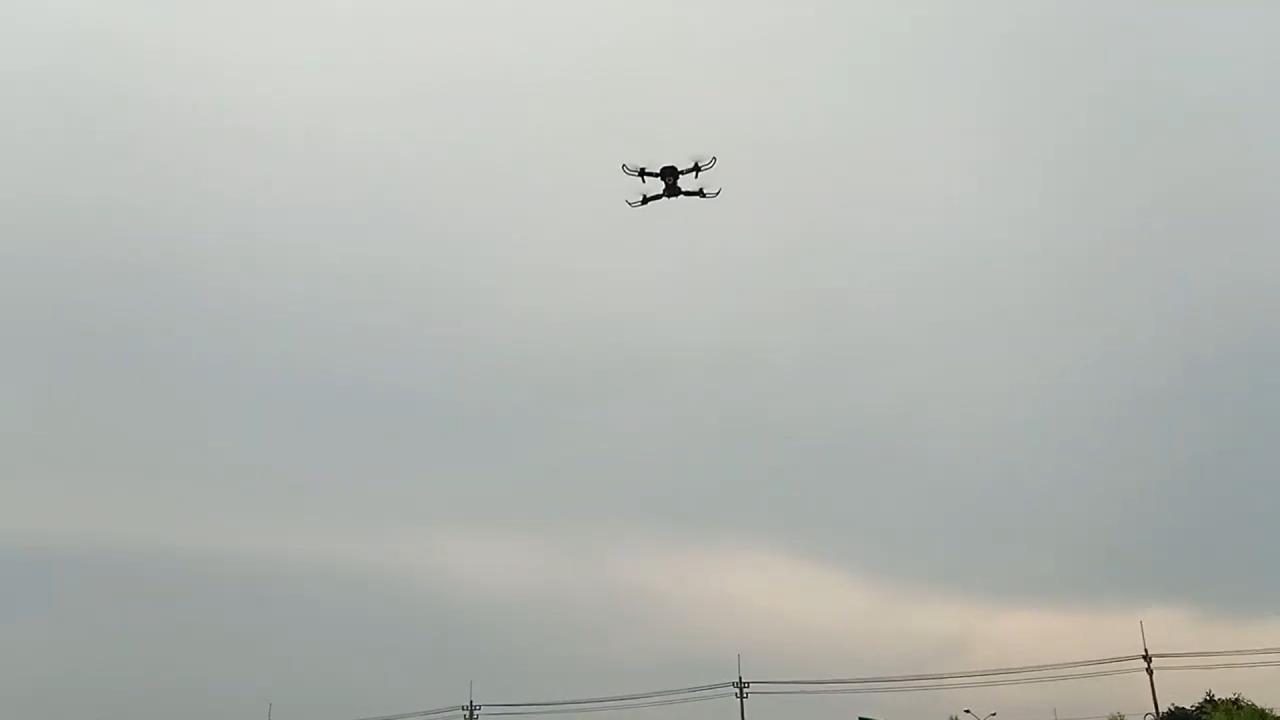Drone: (614, 148, 730, 212)
